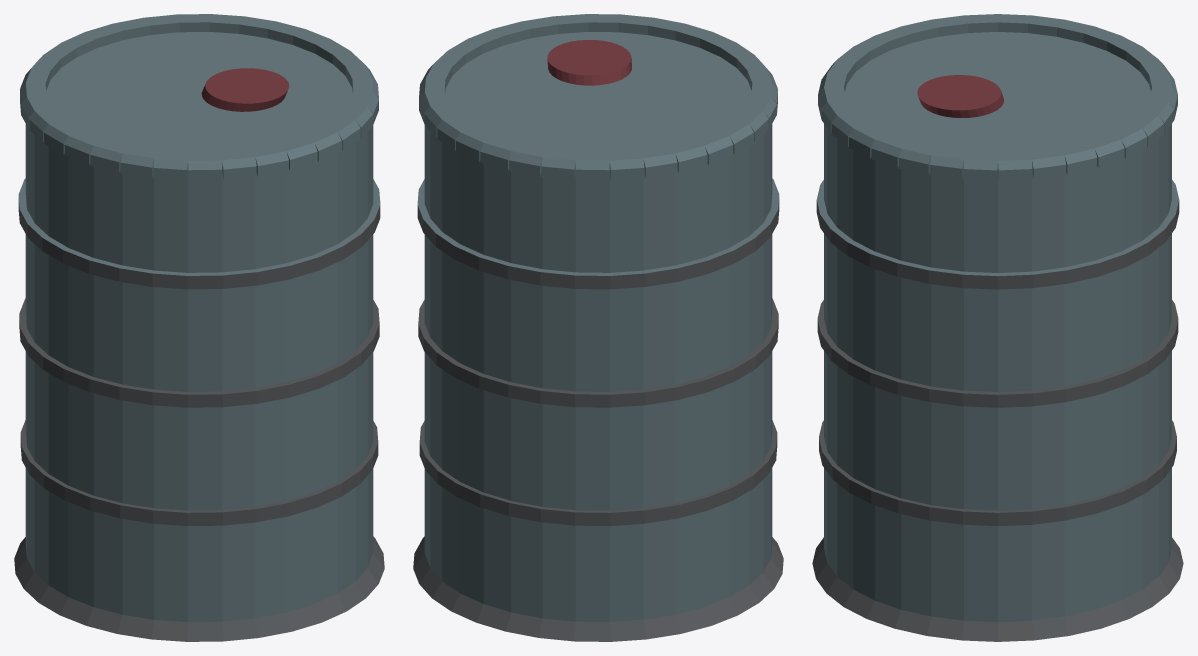
The model's file is CI_0_layout_70_barrel.glb.
The picture shows the model from 3 angles, left to right: view 1: azimuth 30°, elevation 25°; view 2: azimuth 150°, elevation 25°; view 3: azimuth 270°, elevation 25°; orthographic projection.
Parts seen in each view (by area): view 1: Cylinder; view 2: Cylinder; view 3: Cylinder.
Boxes of the visible parts, x1,y1,x2,y2 form: Cylinder: [14, 14, 384, 641]; Cylinder: [413, 14, 783, 641]; Cylinder: [812, 14, 1183, 641].
Size of the model in its own units: 0.7945 by 1.14 by 0.7945.
